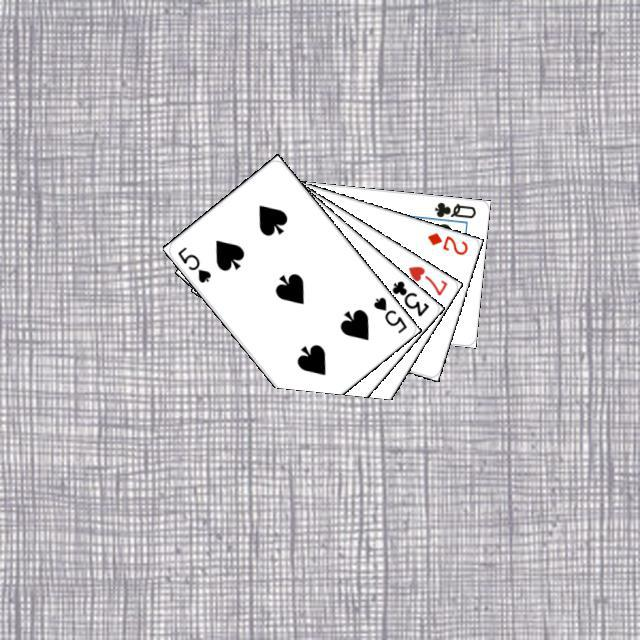2d: (422, 227, 470, 257)
3c: (387, 276, 431, 318)
5s: (368, 292, 409, 335), (172, 242, 213, 285)
7h: (403, 261, 449, 298)
Qc: (424, 197, 478, 227)
